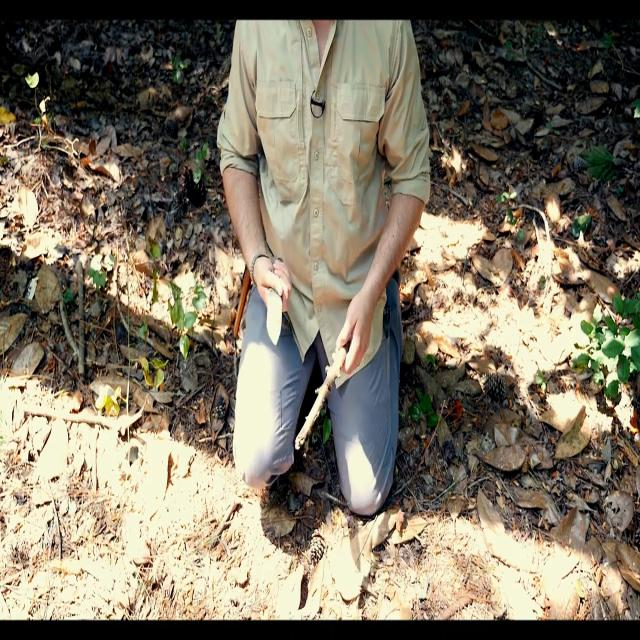knife: (266, 254, 285, 344)
